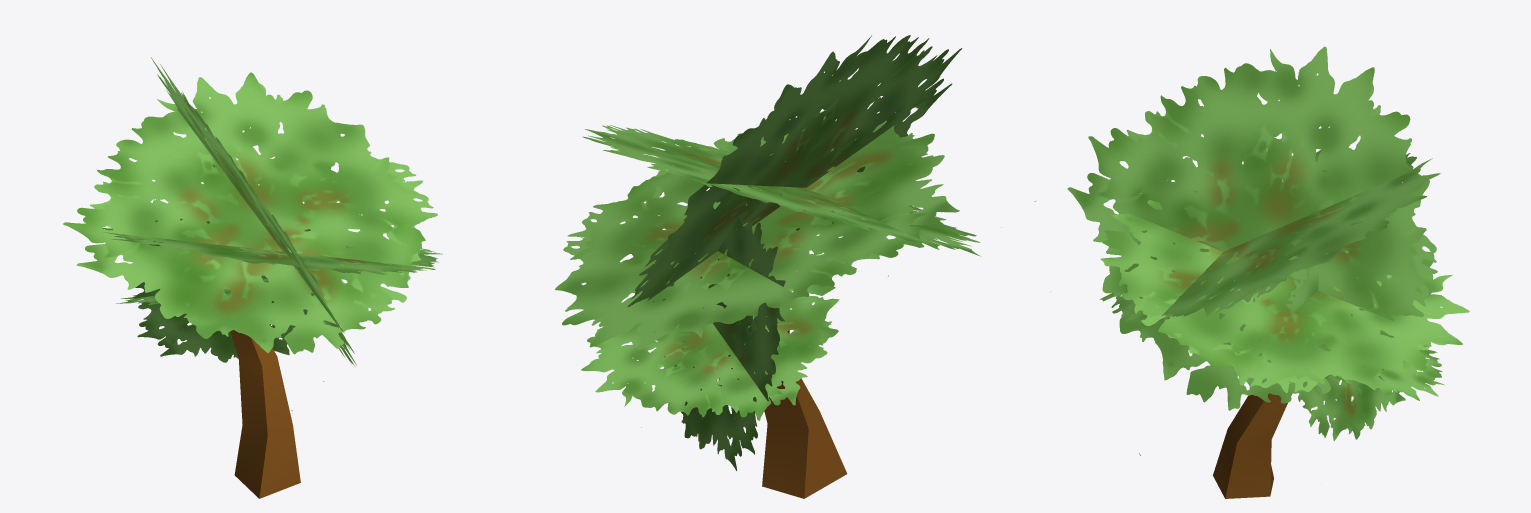
Rendered from tree_near.fbx.
3 renders of one model, left to right at view 1: azimuth 30°, elevation 25°; view 2: azimuth 150°, elevation 25°; view 3: azimuth 270°, elevation 25°, orthographic. The views are drawn at different scales.
Parts seen in each view (by area): view 1: pPlane11; view 2: pPlane11; view 3: pPlane11.
Part boxes in pixels (x1=…): pPlane11: x1=63, y1=57, x2=442, y2=498; pPlane11: x1=555, y1=35, x2=1001, y2=498; pPlane11: x1=1034, y1=46, x2=1469, y2=498.
Bounding box in the file's own units: 1.25 × 1.2 × 1.2.
